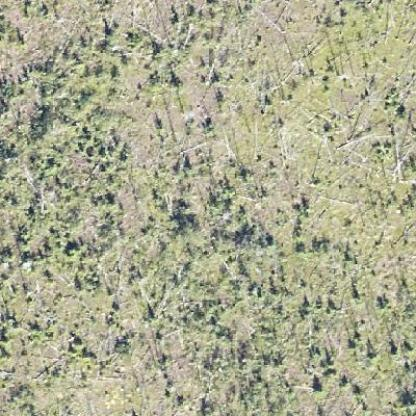tree-top: (310, 382, 328, 400), (290, 227, 308, 245)
